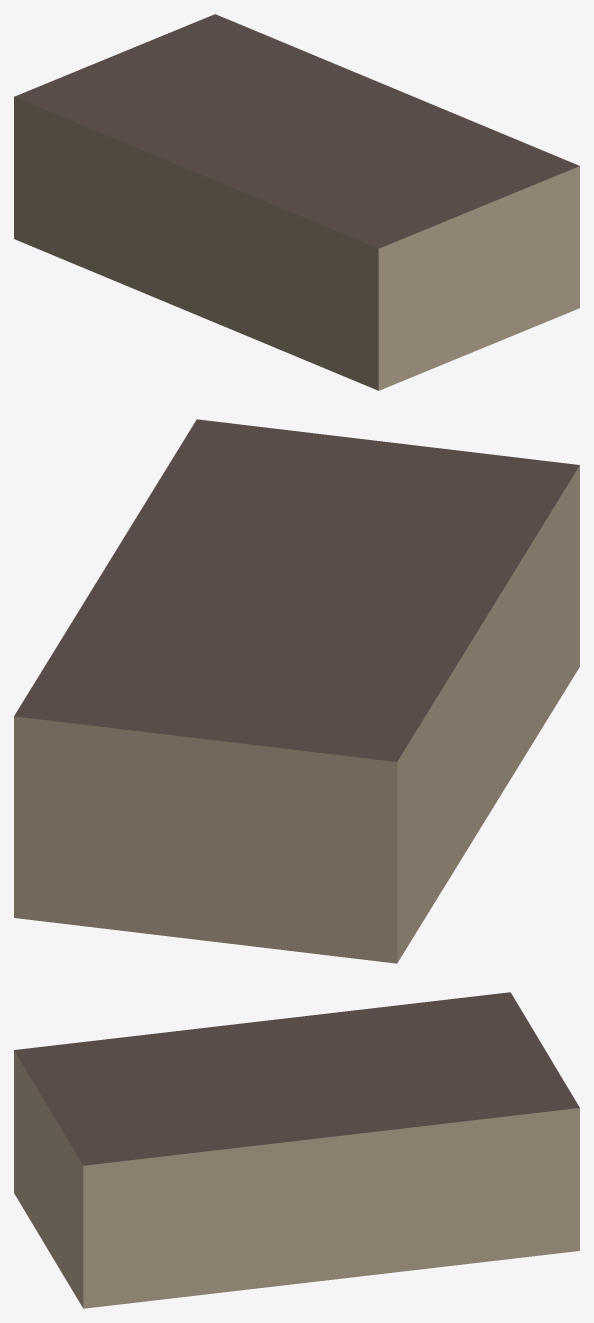
The picture shows the model from 3 angles, top to bottom: view 1: azimuth 30°, elevation 25°; view 2: azimuth 150°, elevation 25°; view 3: azimuth 270°, elevation 25°; orthographic projection. The views are drawn at different scales.
Parts seen in each view (by area): view 1: HP-w1196779069; view 2: HP-w1196779069; view 3: HP-w1196779069.
Part boxes in pixels (left/top/right/bottom): HP-w1196779069: left=14, top=14, right=579, bottom=390; HP-w1196779069: left=14, top=419, right=579, bottom=963; HP-w1196779069: left=14, top=992, right=579, bottom=1308.
Size of the model in its own units: 23.43 by 9 by 32.29.
